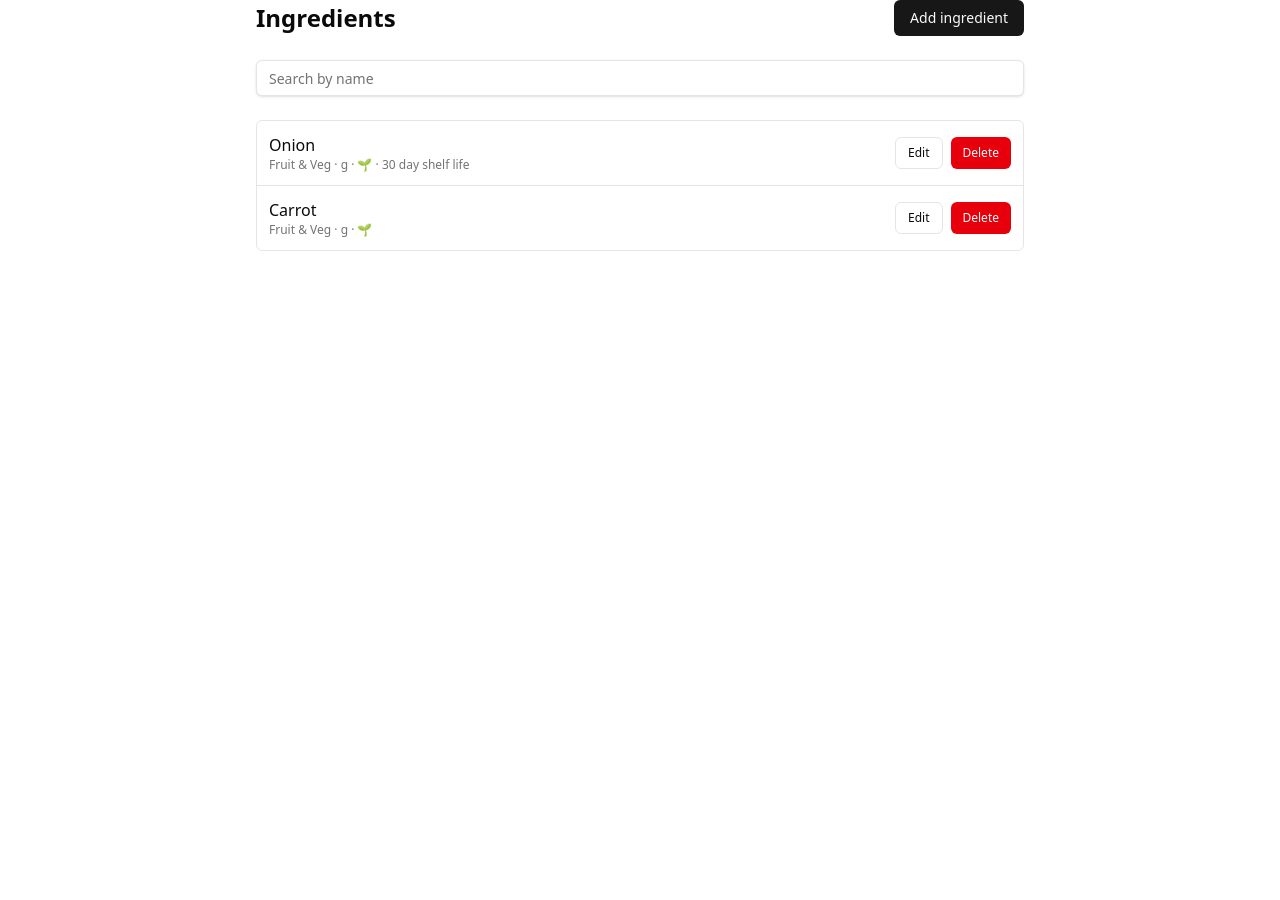
Test: IngredientsPage › opens the Edit dialog prefilled with the row
Click the button "Edit" in the row of "Onion": (919,153) [895, 137, 942, 169]
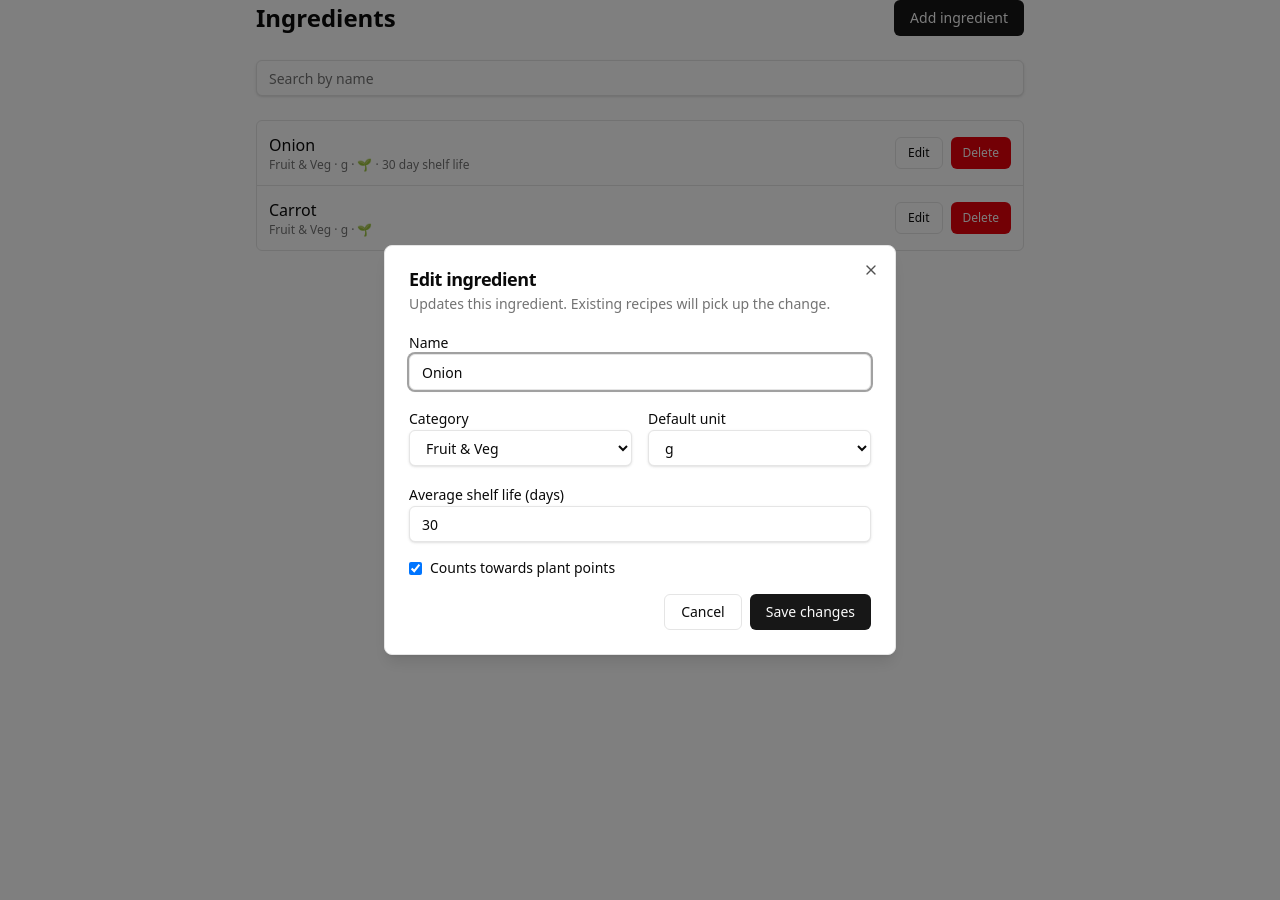
Expected: the field labelled "Name" holds "Onion", [409, 354, 871, 390]
